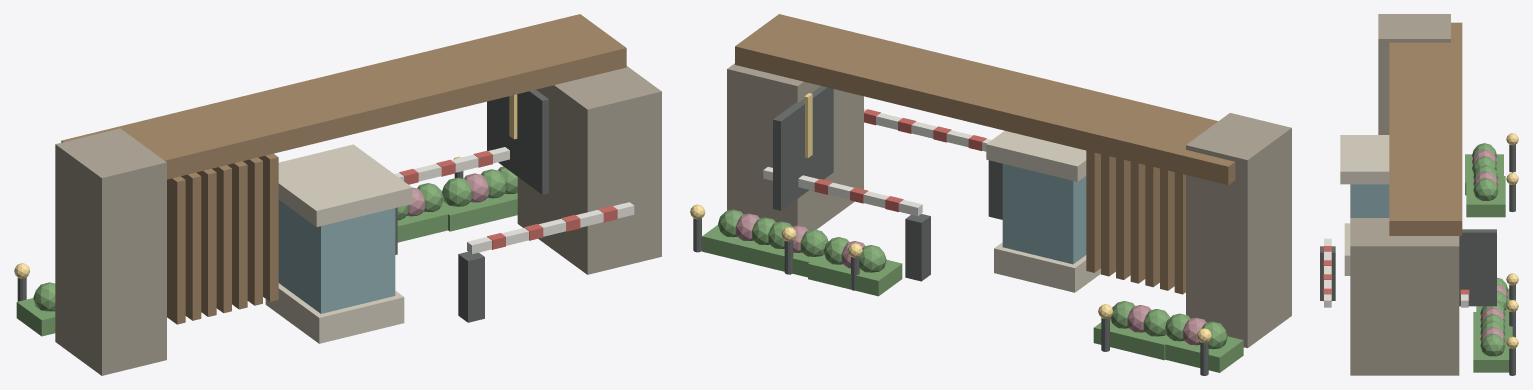
Rendered from entrance-gate.glb.
3 renders of one model, left to right at view 1: azimuth 30°, elevation 25°; view 2: azimuth 150°, elevation 25°; view 3: azimuth 270°, elevation 25°, orthographic. The views are drawn at different scales.
Parts seen in each view (by area): view 1: canopy, stone_left, stone_right, booth_glass, booth_roof, sign_panel, booth_base, world, fin_0, fin_1, fin_4, fin_2 (+9 smaller); view 2: canopy, stone_left, stone_right, world, booth_glass, sign_panel, booth_roof, booth_base, bed0.72, fin_3, fin_6, fin_2 (+12 smaller); view 3: stone_right, canopy, world, stone_left, sign_panel, booth_roof, booth_glass, bed-1.18, bed1.45, bed-1.55, barrier_post_0.7, barrier_arm_0.7 (+5 smaller).
Boxes of the visible parts, bbox=[...] form: canopy: bbox=[61, 14, 626, 179]; stone_left: bbox=[55, 128, 166, 375]; stone_right: bbox=[517, 66, 661, 274]; booth_glass: bbox=[278, 200, 395, 313]; booth_roof: bbox=[278, 144, 412, 226]; sign_panel: bbox=[487, 89, 548, 194]; booth_base: bbox=[265, 283, 404, 343]; world: bbox=[14, 156, 517, 311]; fin_0: bbox=[167, 176, 185, 324]; fin_1: bbox=[181, 172, 201, 320]; fin_4: bbox=[227, 161, 247, 309]; fin_2: bbox=[196, 169, 216, 316]; canopy: bbox=[735, 14, 1235, 185]; stone_left: bbox=[1186, 113, 1291, 348]; stone_right: bbox=[727, 63, 863, 230]; world: bbox=[690, 204, 1227, 349]; booth_glass: bbox=[1002, 164, 1086, 264]; sign_panel: bbox=[773, 86, 833, 210]; booth_roof: bbox=[986, 131, 1086, 181]; booth_base: bbox=[994, 242, 1100, 292]; bed0.72: bbox=[808, 254, 902, 296]; fin_3: bbox=[1130, 161, 1145, 283]; fin_6: bbox=[1086, 150, 1100, 272]; fin_2: bbox=[1145, 165, 1159, 287]; stone_right: bbox=[1350, 218, 1459, 375]; canopy: bbox=[1389, 22, 1462, 235]; world: bbox=[1472, 133, 1518, 356]; stone_left: bbox=[1378, 14, 1450, 134]; sign_panel: bbox=[1459, 229, 1496, 306]; booth_roof: bbox=[1340, 135, 1389, 184]; booth_glass: bbox=[1350, 184, 1389, 217]; bed-1.18: bbox=[1466, 176, 1505, 217]; bed1.45: bbox=[1473, 331, 1512, 372]; bed-1.55: bbox=[1465, 154, 1503, 195]; barrier_post_0.7: bbox=[1320, 246, 1335, 300]; barrier_arm_0.7: bbox=[1324, 238, 1331, 307].
Size of the model in its own units: 3.55 by 1.22 by 1.42.
